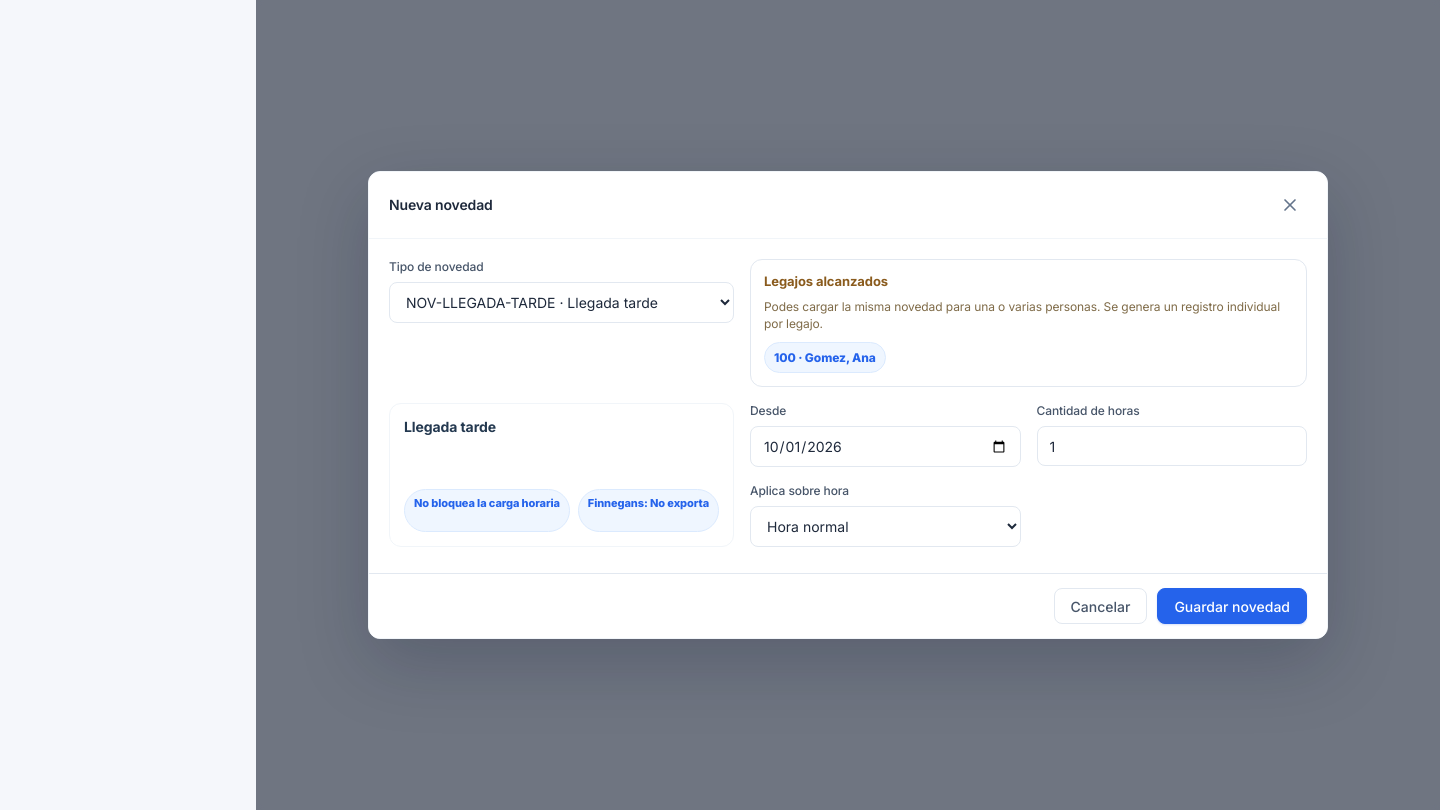
Scenario: NoveltyModal — Etapa 15G.3 (conflicto de duplicado/solapamiento) › otros codigos de error siguen mostrando el mensaje generico existente (sin regresion)
The image size is (1440, 810).
Expected: the text "Llegada tarde" is shown, [404,418,496,435]
Click the button "Guardar novedad". click: coordinates (1232, 606)
box: [1157,588,1307,624]
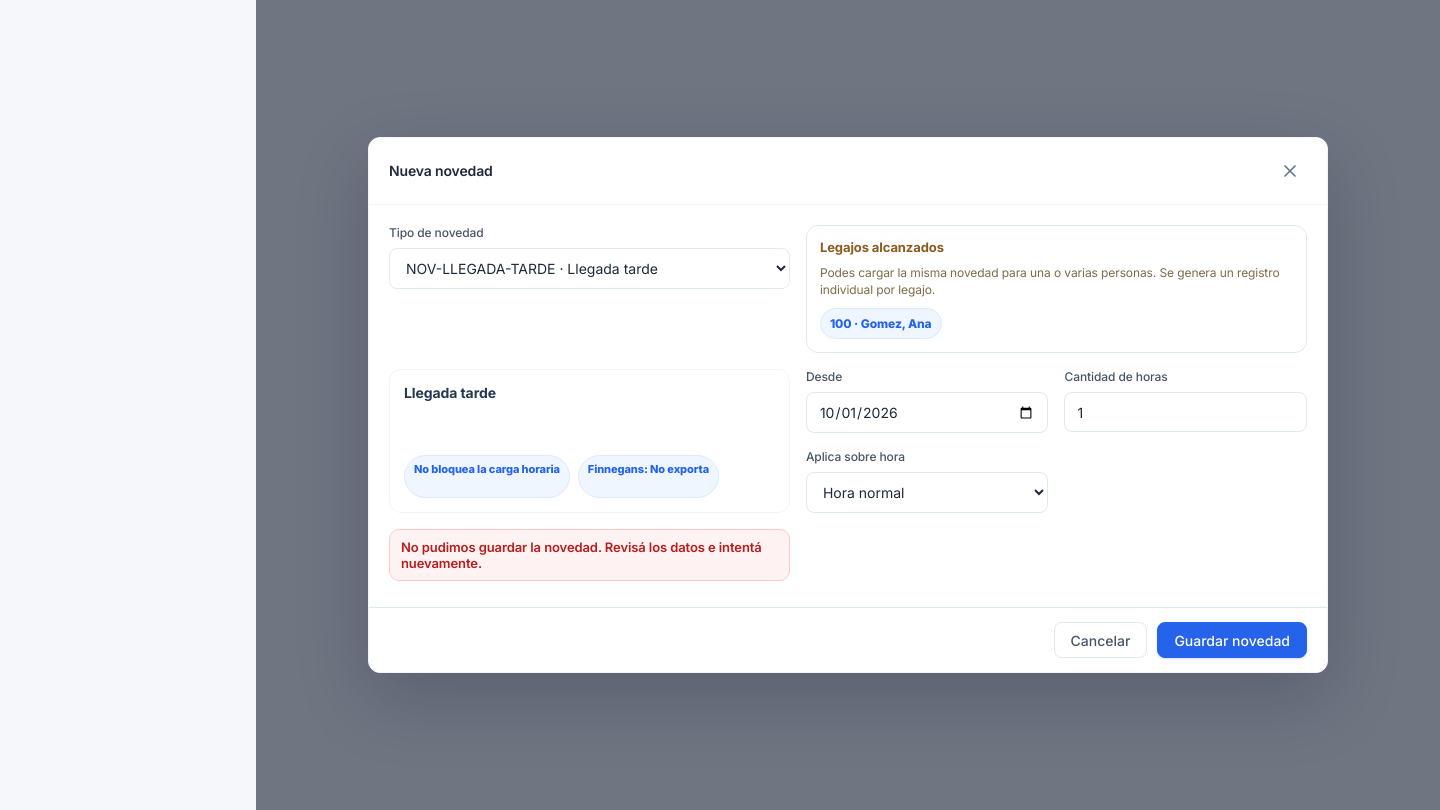
Expected: the text "No pudimos guardar la novedad. Revisá los datos e intentá nuevamente." is shown, [389,529,790,581]
